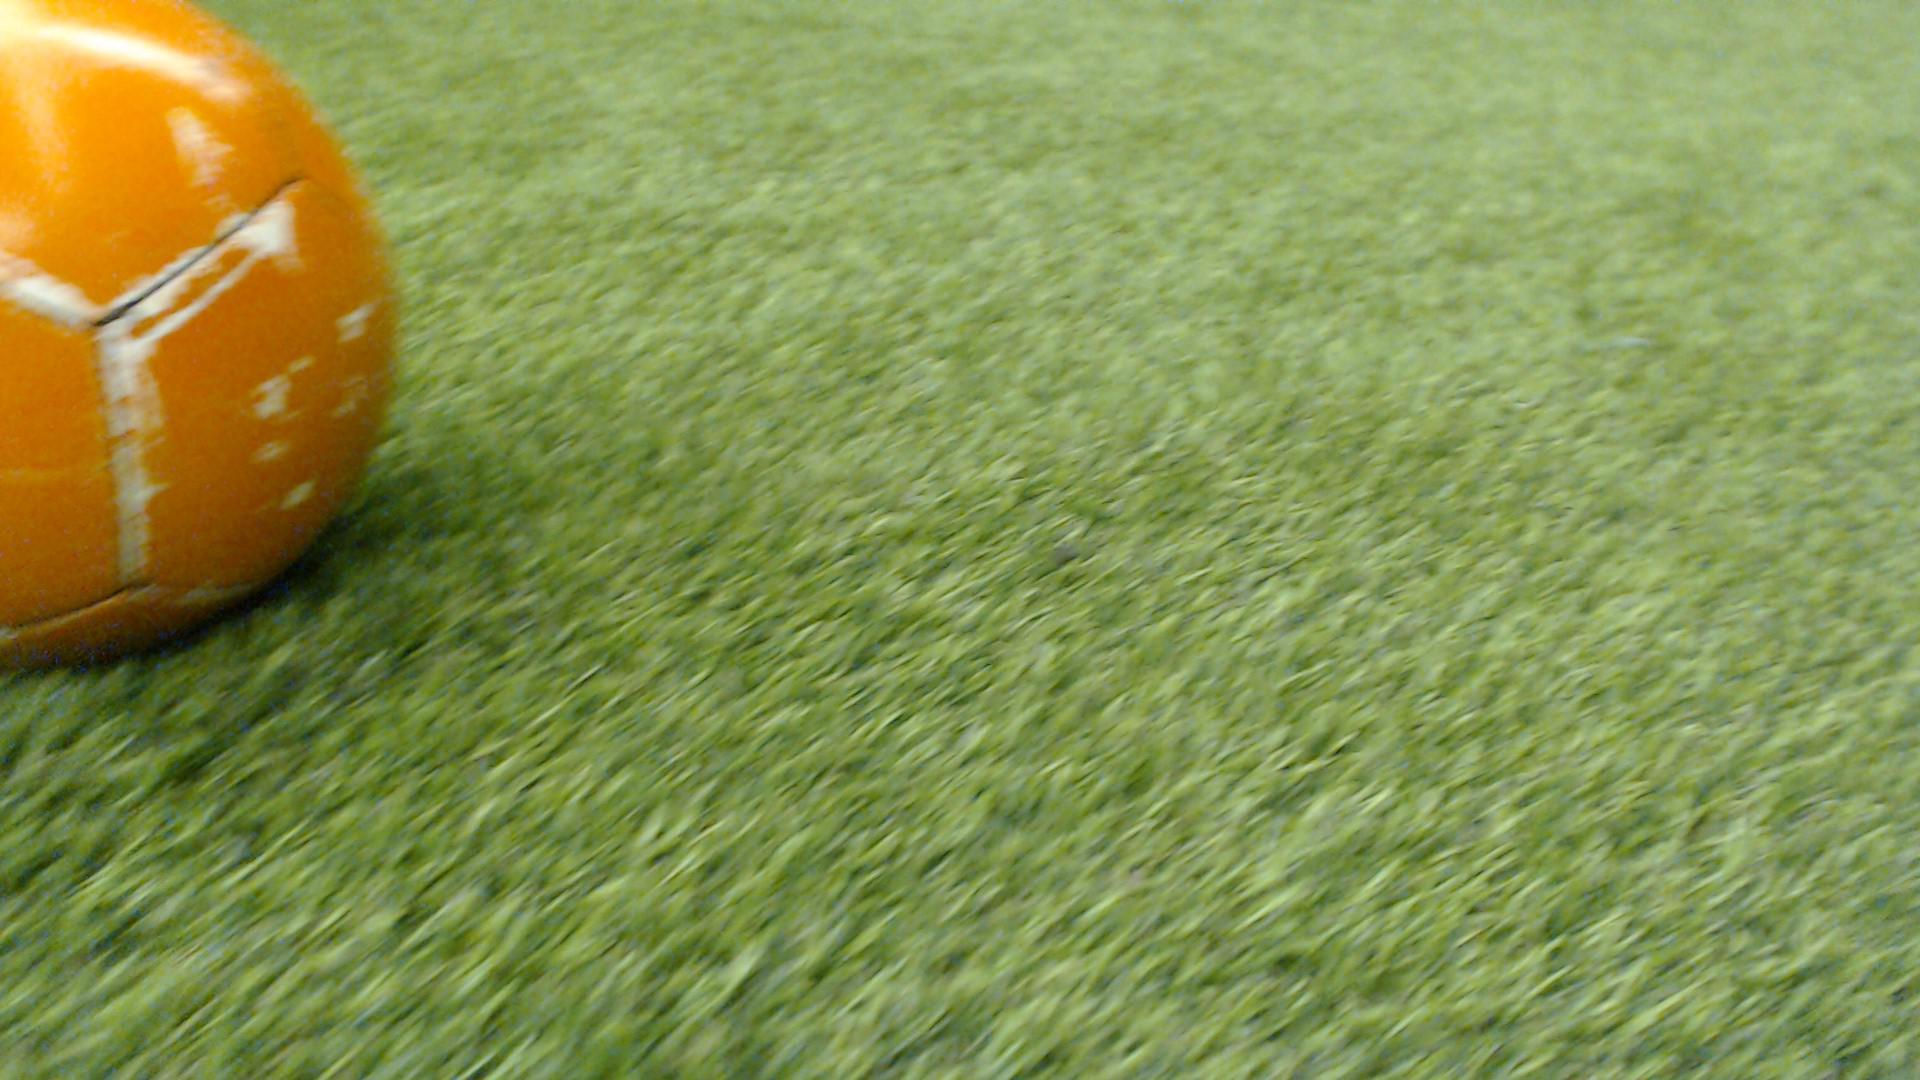bola: (0, 0, 450, 702)
